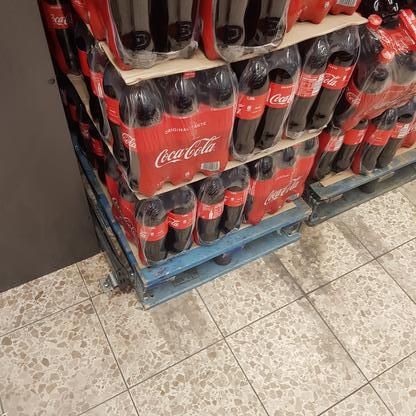coca-cola: (124, 80, 164, 193), (237, 58, 268, 158), (269, 51, 299, 152), (137, 196, 168, 262), (198, 177, 224, 242), (224, 170, 250, 233), (169, 188, 194, 253)
